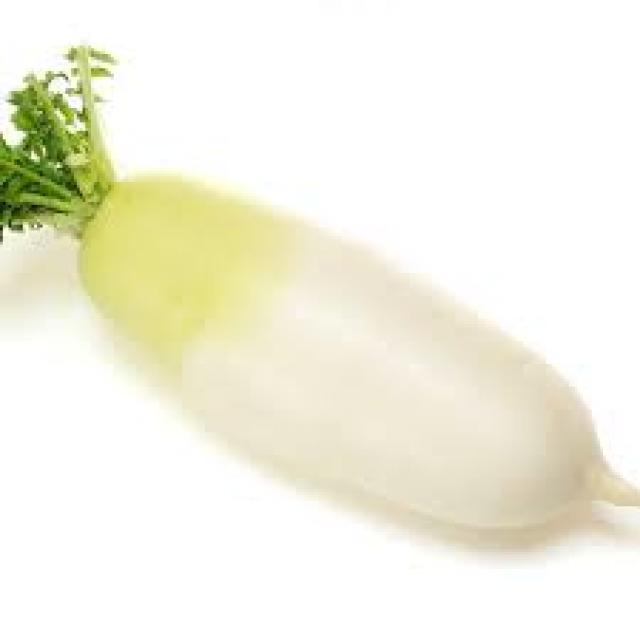Radish: (82, 179, 594, 530)
